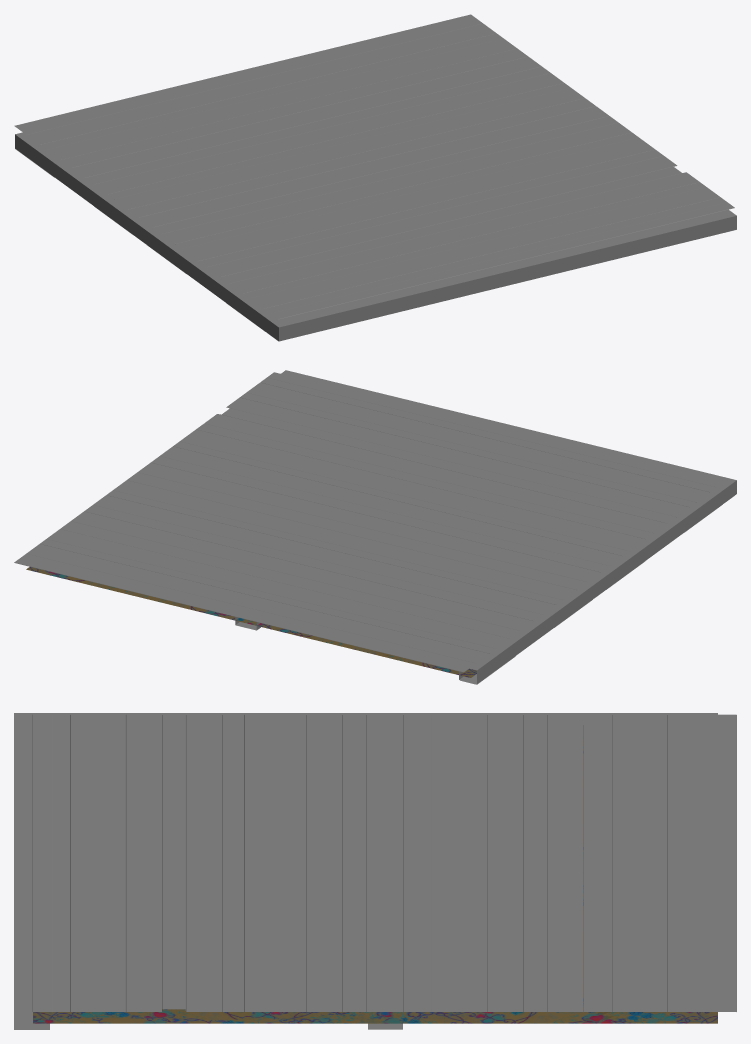
Rendered from FL4_Floor.fbx.
The picture shows the model from 3 angles, top to bottom: view 1: azimuth 30°, elevation 25°; view 2: azimuth 150°, elevation 25°; view 3: azimuth 270°, elevation 25°; orthographic projection. The views are drawn at different scales.
Parts seen in each view (by area): view 1: FL4_Floor; view 2: FL4_Floor; view 3: FL4_Floor.
Boxes of the visible parts, x1=… form: FL4_Floor: x1=14, y1=14, x2=736, y2=341; FL4_Floor: x1=14, y1=370, x2=736, y2=684; FL4_Floor: x1=14, y1=713, x2=736, y2=1029.
Bounding box in the file's own units: 507 × 17.07 × 514.
